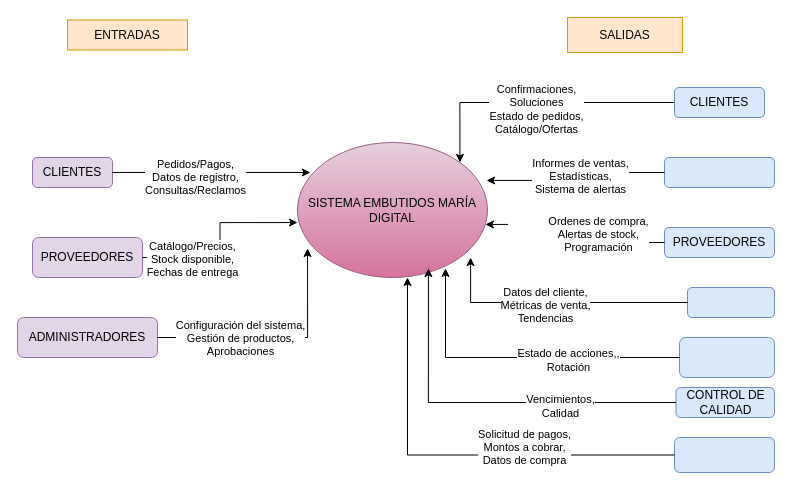
The diagram is 792 pixels wide and 490 high, and some of its shapes have lost their labels. The shapes that lost their labels are listed below. From the top down, each one's box as (x1, y1, x2, y2) in pixels, then its label:
(664, 156, 774, 188): ADMINISTRADOR
(686, 286, 774, 318): MARKETING
(678, 336, 774, 378): CONTROL DE INVENTARIO
(674, 436, 774, 472): PAGOS
